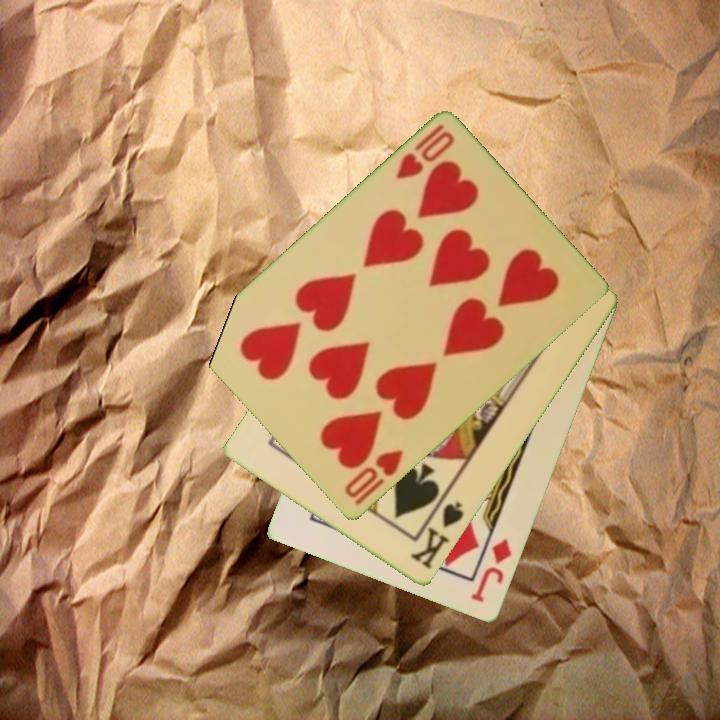10h: (392, 121, 458, 183), (341, 447, 407, 502)
Jd: (468, 536, 515, 606)
Ks: (407, 492, 467, 573)
